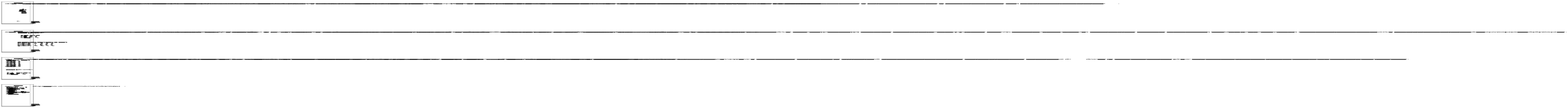room: (1402, 1, 1540, 23), (1402, 28, 1540, 50), (1402, 56, 1540, 78), (1402, 85, 1540, 107)
wall: (901, 98, 933, 99), (862, 98, 893, 99), (982, 100, 1014, 100), (982, 99, 1014, 99), (877, 99, 917, 99), (1098, 99, 1129, 99), (844, 98, 875, 98)
